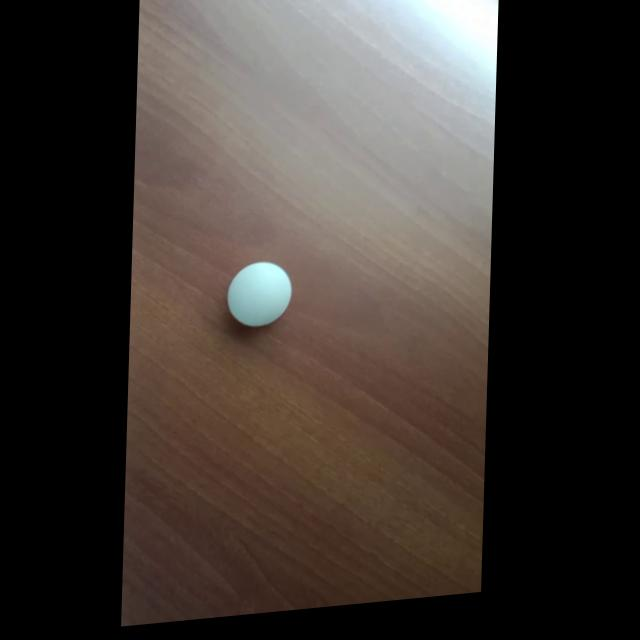white ball: (226, 258, 293, 330)
